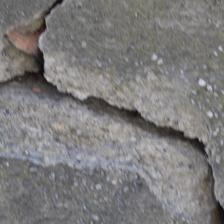Crack: (2, 107, 72, 224), (16, 57, 52, 166)
